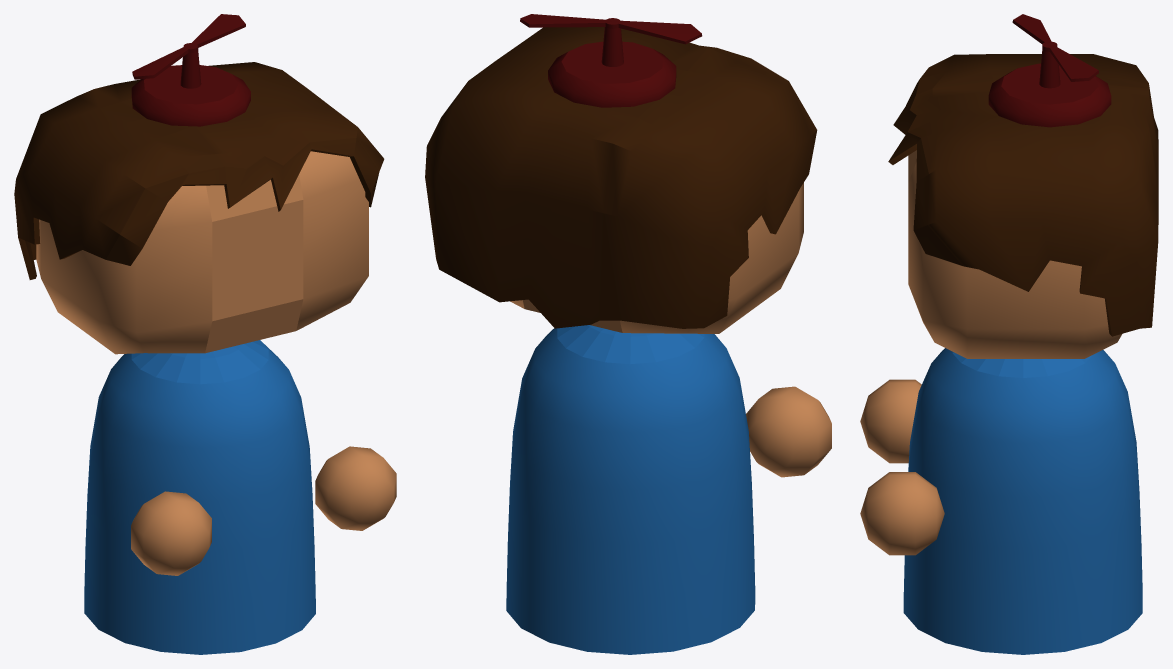
File: Niño_low.fbx
3 views of the same model, side by side, from view 1: azimuth 30°, elevation 25°; view 2: azimuth 150°, elevation 25°; view 3: azimuth 270°, elevation 25° (orthographic). The views are drawn at different scales.
Parts seen in each view (by area): view 1: Cylinder001, Box001, Plane001, Cylinder002, Sphere001, Sphere002, Cylinder003; view 2: Plane001, Cylinder001, Cylinder002, Box001, Sphere002, Cylinder003; view 3: Cylinder001, Plane001, Box001, Cylinder002, Sphere001, Sphere002, Cylinder003.
Part boxes in pixels (x1=…): Cylinder001: x1=84, y1=340, x2=315, y2=654; Box001: x1=36, y1=151, x2=368, y2=354; Plane001: x1=14, y1=62, x2=384, y2=279; Cylinder002: x1=131, y1=50, x2=250, y2=126; Sphere001: x1=315, y1=446, x2=396, y2=530; Sphere002: x1=131, y1=491, x2=211, y2=575; Cylinder003: x1=132, y1=14, x2=245, y2=79; Plane001: x1=425, y1=27, x2=817, y2=328; Cylinder001: x1=506, y1=325, x2=755, y2=654; Cylinder002: x1=548, y1=27, x2=676, y2=107; Box001: x1=510, y1=183, x2=803, y2=333; Sphere002: x1=746, y1=386, x2=831, y2=477; Cylinder003: x1=520, y1=14, x2=702, y2=44; Cylinder001: x1=903, y1=348, x2=1142, y2=654; Plane001: x1=888, y1=54, x2=1158, y2=336; Box001: x1=908, y1=150, x2=1121, y2=358; Cylinder002: x1=988, y1=49, x2=1111, y2=127; Sphere001: x1=860, y1=472, x2=944, y2=555; Sphere002: x1=860, y1=379, x2=921, y2=463; Cylinder003: x1=1012, y1=14, x2=1098, y2=81.
Bounding box in the file's own units: 0.0379 × 0.034 × 0.0708.
